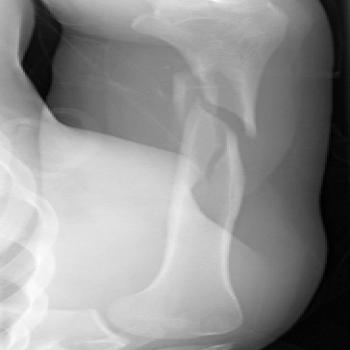Fracture: (173, 86, 266, 132), (176, 148, 247, 182)
